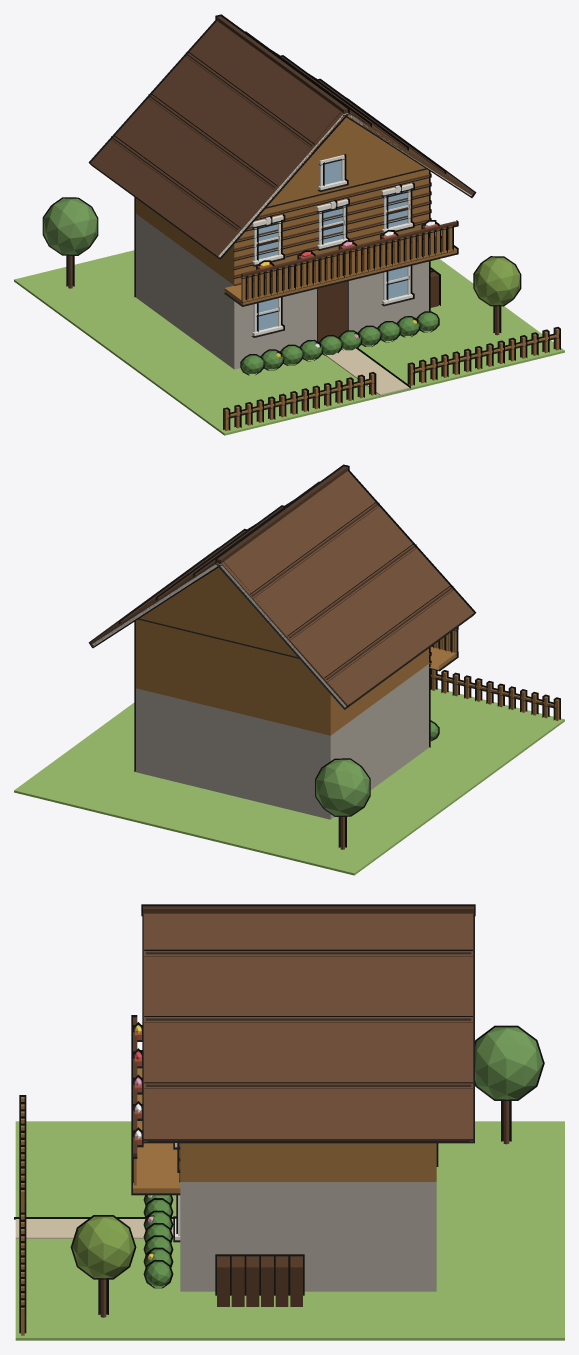
File: Konut_sale_1.fbx
3 renders of one model, top to bottom at view 1: azimuth 30°, elevation 25°; view 2: azimuth 150°, elevation 25°; view 3: azimuth 270°, elevation 25°, orthographic. The views are drawn at different scales.
Visible parts, largest first — view 1: Konut_sale_1; view 2: Konut_sale_1; view 3: Konut_sale_1.
Part boxes in pixels (box(x1,y1,x2,y2)): Konut_sale_1: box(14, 14, 564, 435); Konut_sale_1: box(14, 464, 564, 875); Konut_sale_1: box(14, 904, 564, 1340).
Bounding box in the file's own units: 14 × 9.82 × 15.05.
